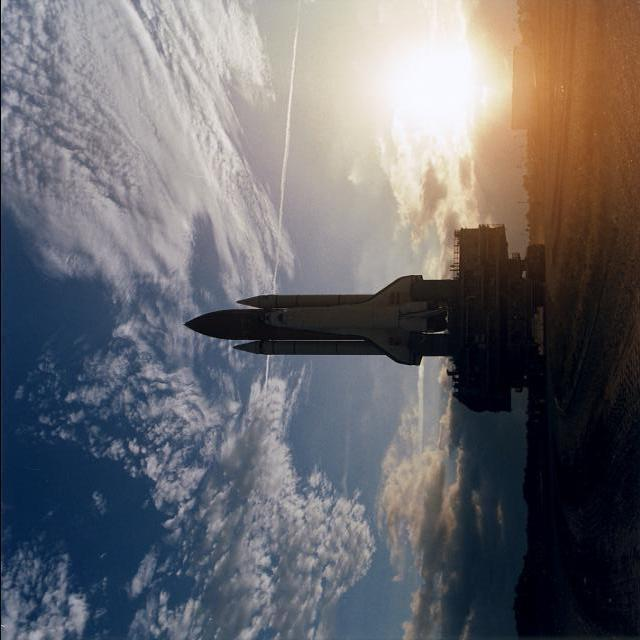missile: (259, 272, 444, 364)
